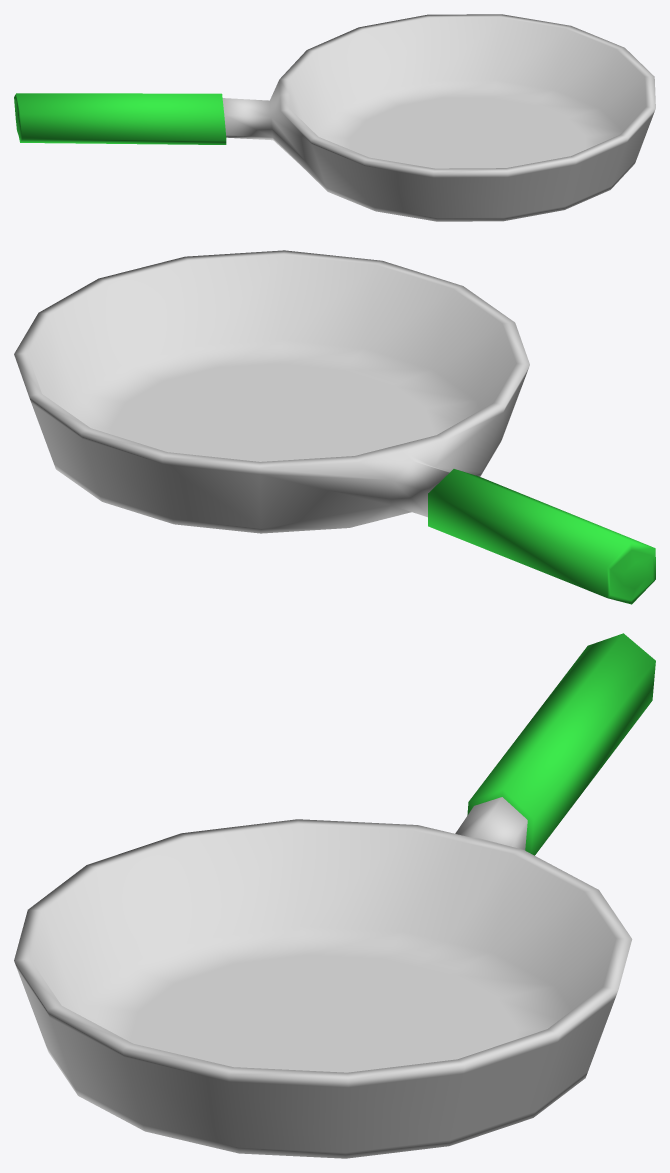
Rendered from Pan.fbx.
The picture shows the model from 3 angles, top to bottom: view 1: azimuth 30°, elevation 25°; view 2: azimuth 150°, elevation 25°; view 3: azimuth 270°, elevation 25°; orthographic projection. The views are drawn at different scales.
Parts seen in each view (by area): view 1: Circle; view 2: Circle; view 3: Circle.
Part boxes in pixels (bbox=[...]): Circle: bbox=[14, 14, 655, 221]; Circle: bbox=[14, 250, 655, 604]; Circle: bbox=[14, 633, 655, 1158].
Size of the model in its own units: 119 by 16.64 by 77.15.
